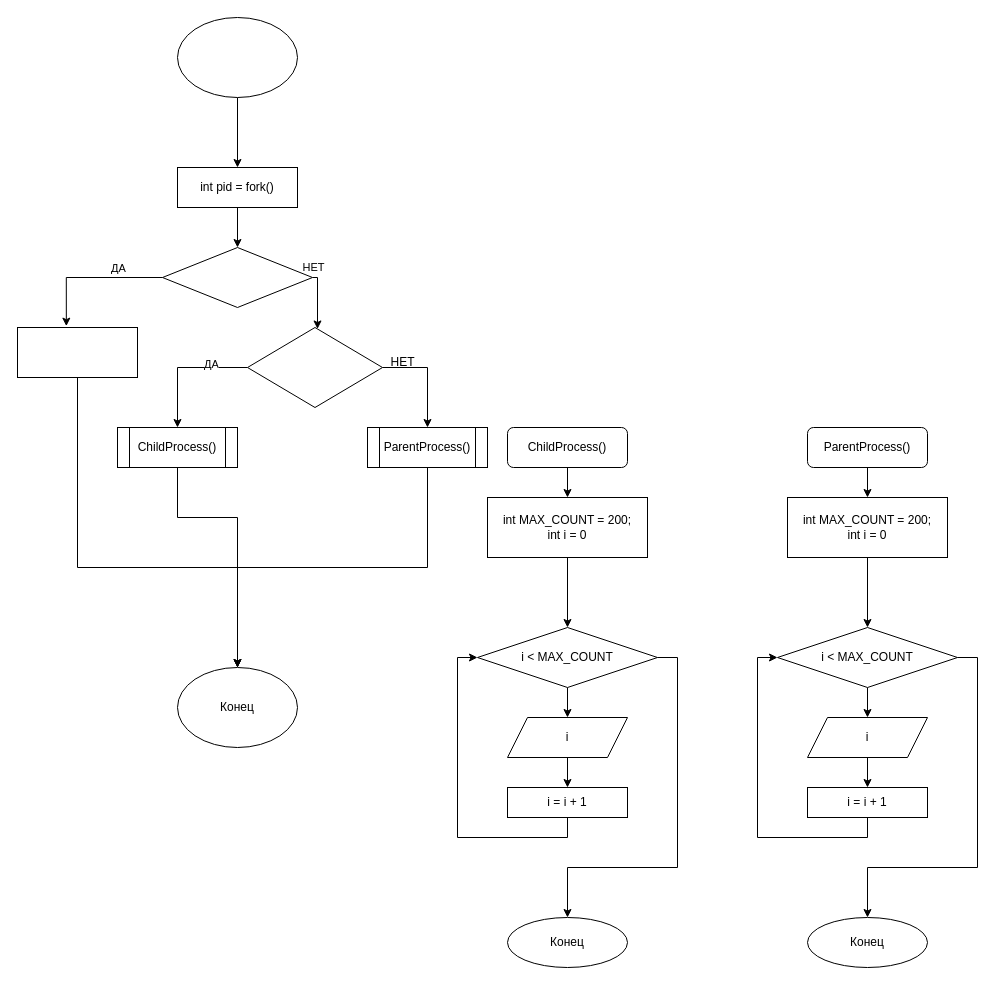
Some shapes in this 1003 by 985 pixel diagram are drawn without their labels. Here are the shapes that lost their labels. From the top down, the centre of each, then its label:
At point 237,57: "Начало".
At point 237,277: "pid < 0".
At point 77,352: "perror()".
At point 314,367: "pid == 0".
